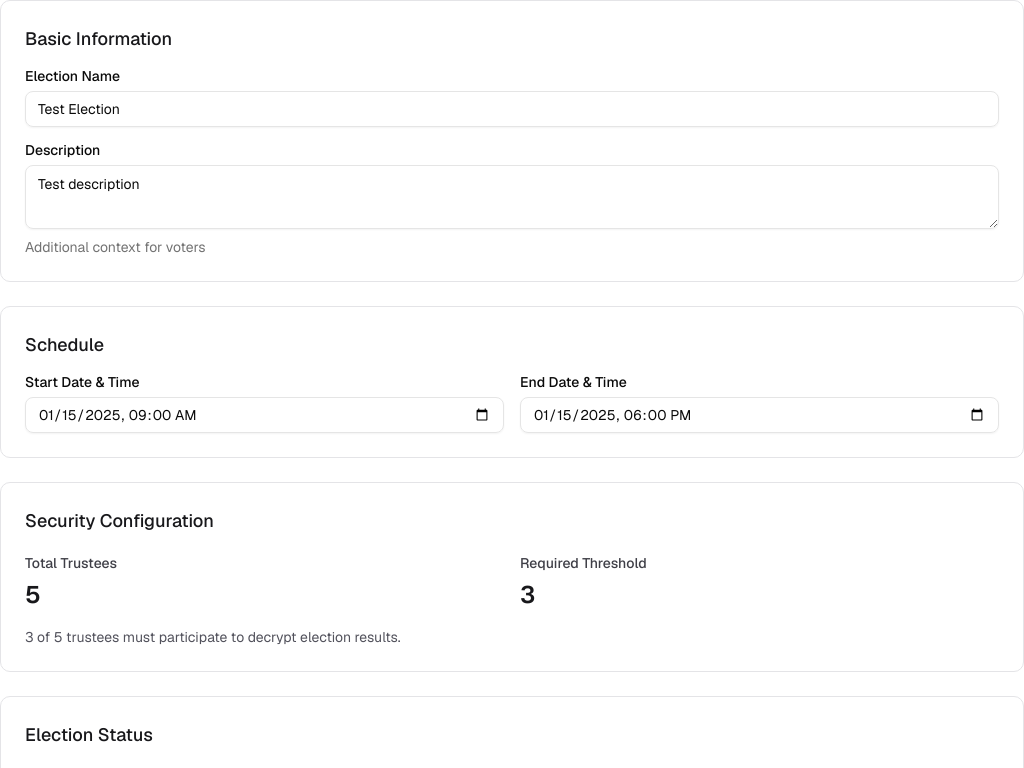
SettingsForm › form validation › should show error when name is empty
Clear the field labelled "Election Name" at x=512, y=109, box [25,91,999,127]
(page scrolled)
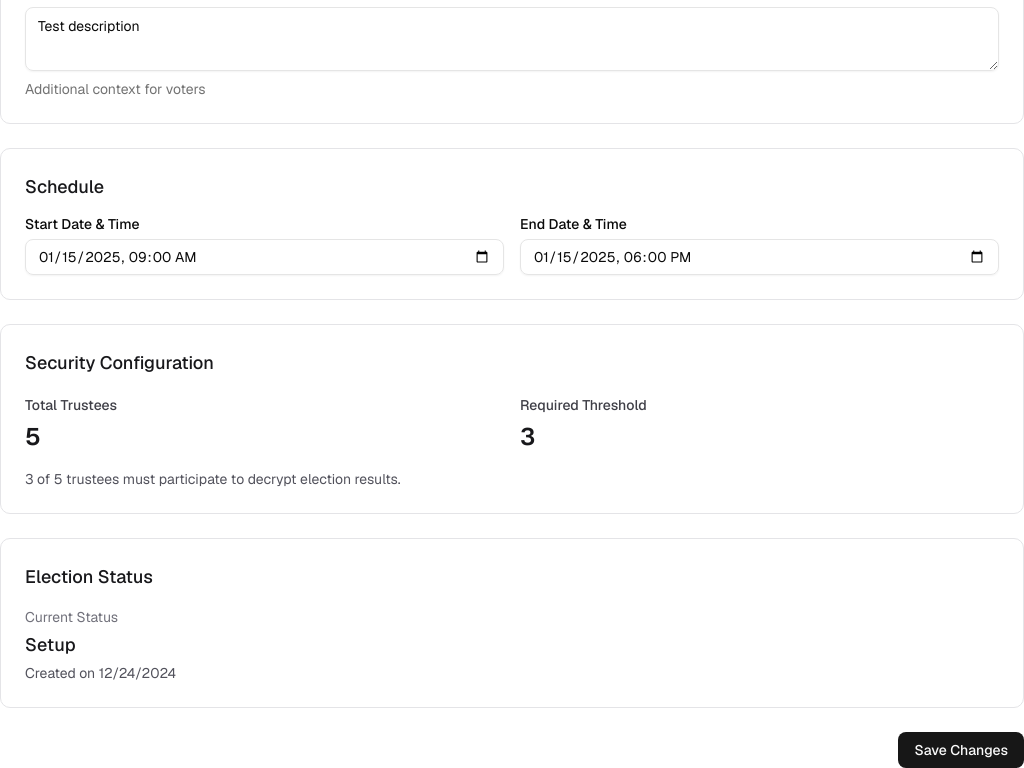
Click the button "Save Changes" at x=961, y=750, box [898,732,1023,767]
(page scrolled)
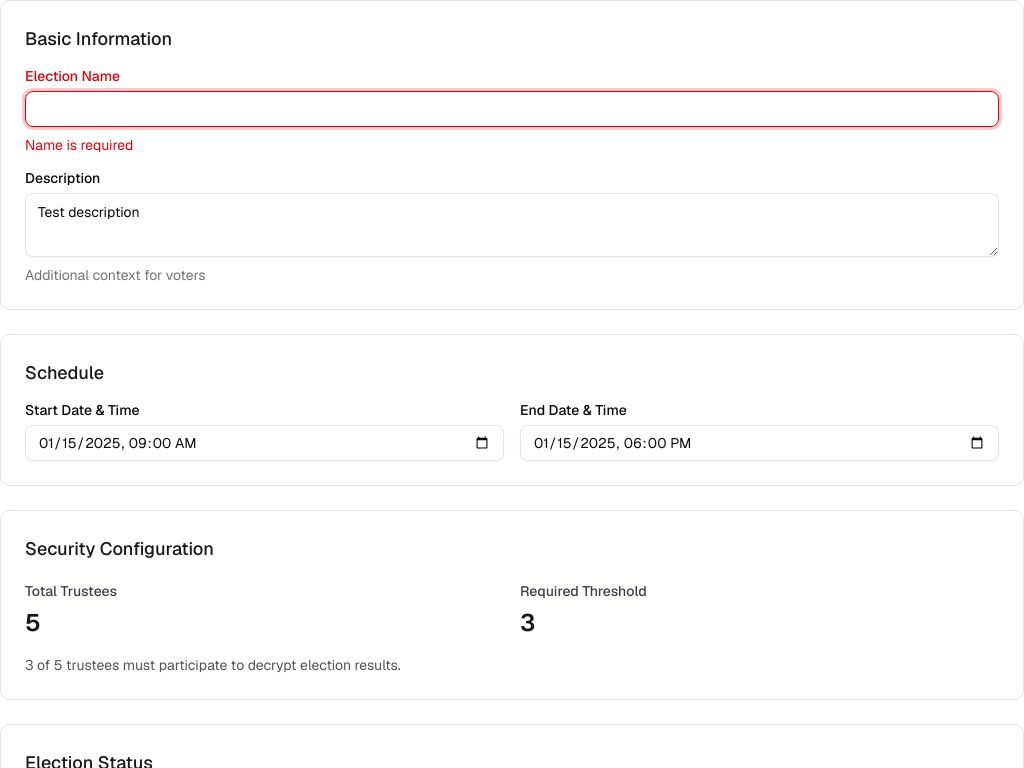
Check: the text "Name is required" is shown, box [25,136,133,154]
